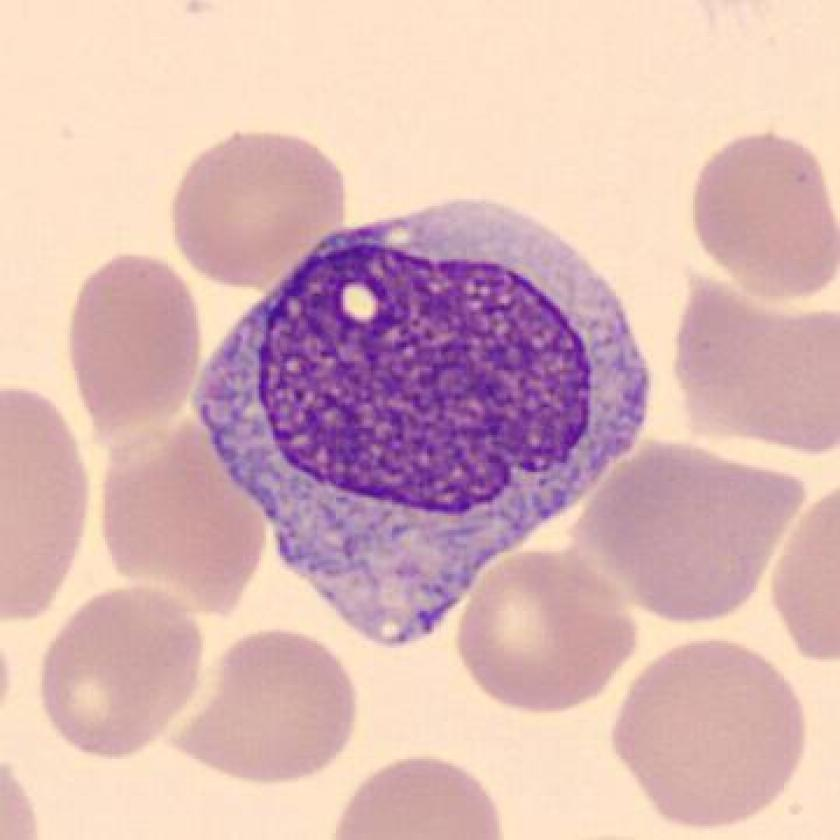monocyte: (176, 177, 668, 663)
